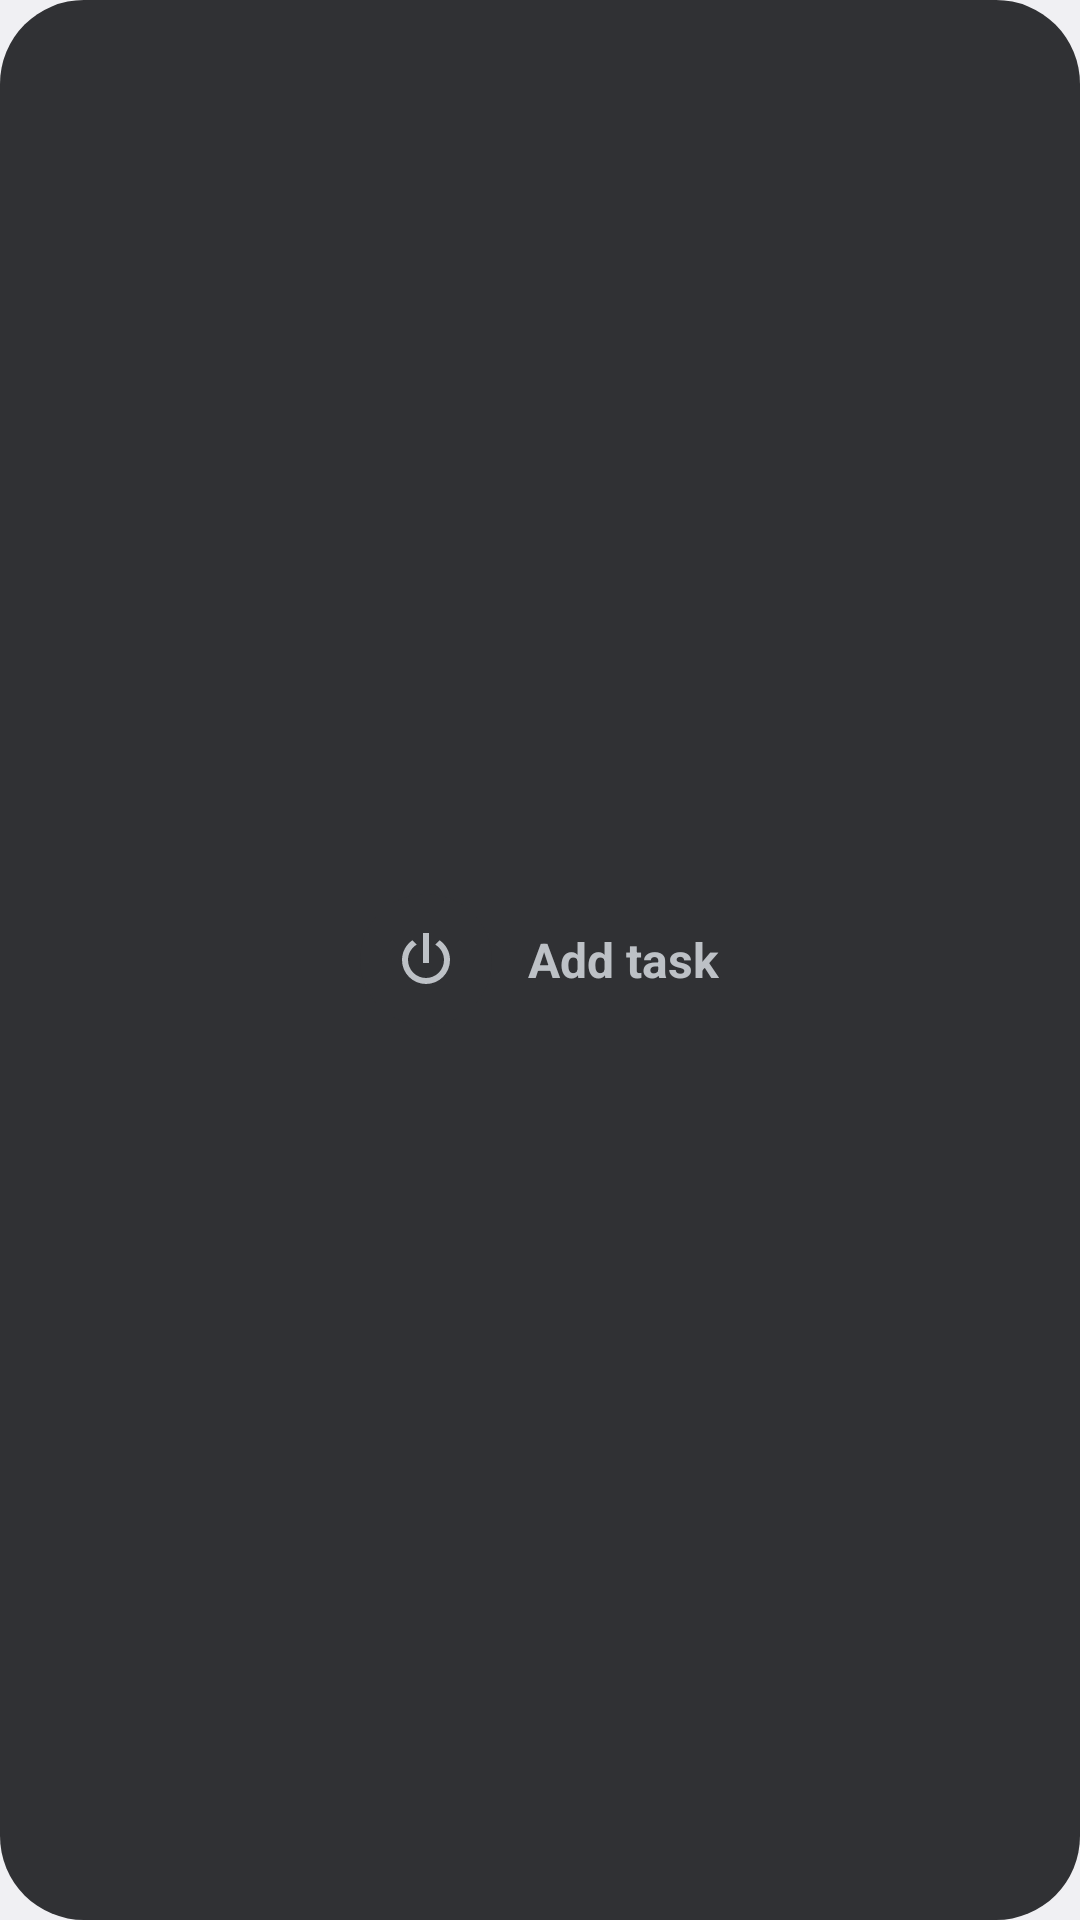

Where to tap for icons on this 1080w x 1920h app screen, as (x,y):
power: (426,958)
